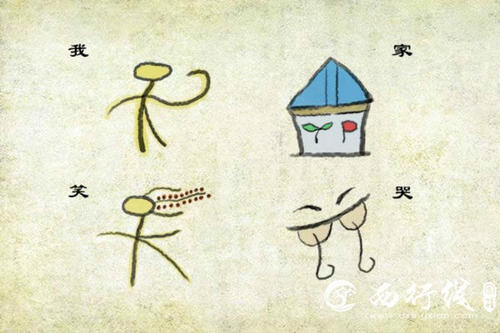chinese: (100, 54, 217, 157), (369, 283, 477, 316), (385, 36, 414, 61), (67, 39, 91, 61), (393, 181, 415, 204), (65, 182, 92, 200)
naxi: (102, 183, 213, 290), (277, 56, 374, 163), (277, 190, 384, 282)
